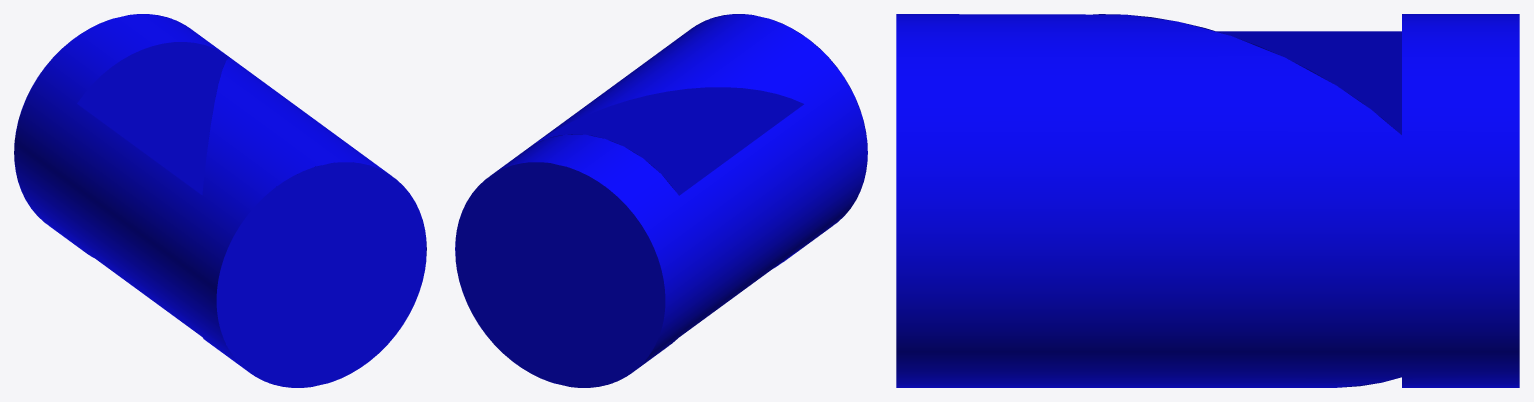
The model's file is yuanzhujieduanti2.FBX.
3 views of the same model, side by side, from view 1: azimuth 30°, elevation 25°; view 2: azimuth 150°, elevation 25°; view 3: azimuth 270°, elevation 25° (orthographic). The views are drawn at different scales.
Parts seen in each view (by area): view 1: TRM_SRF (×4); view 2: TRM_SRF (×4); view 3: TRM_SRF (×3).
Part boxes in pixels (x1,y1,x2,y2): TRM_SRF (×4): (14,14,426,387); TRM_SRF (×4): (455,14,867,387); TRM_SRF (×3): (896,14,1519,387).
Size of the model in its own units: 23.62 by 23.59 by 39.37.
